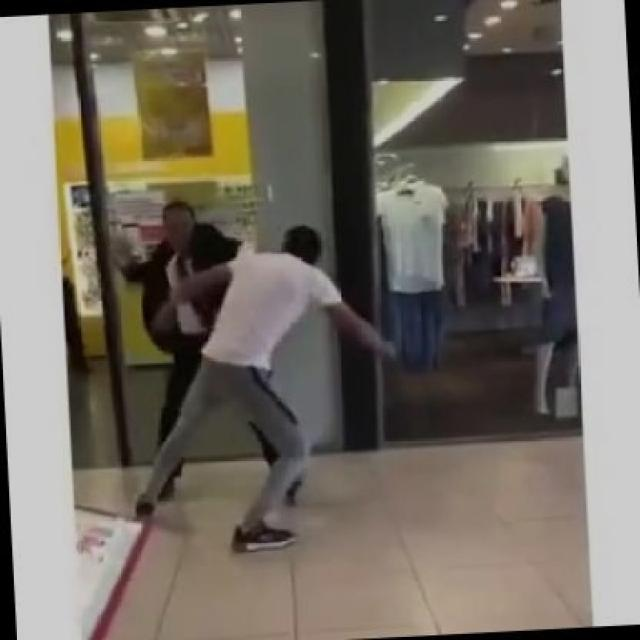fight: (85, 198, 401, 574)
